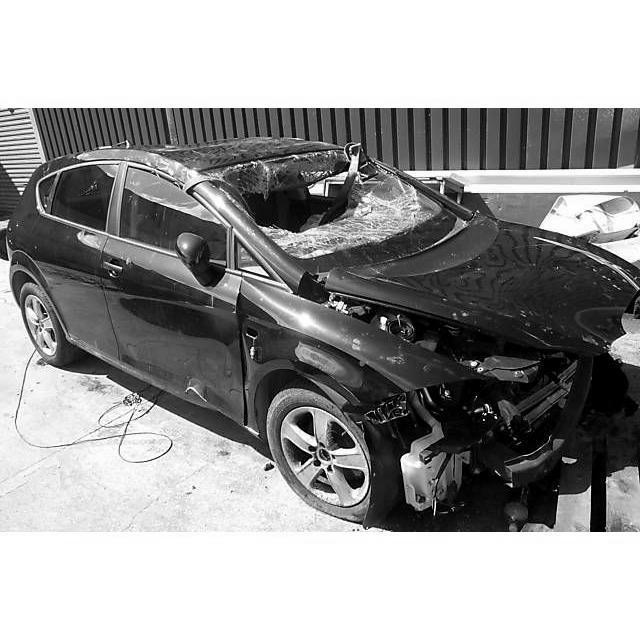Front-windscreen-damage: (211, 147, 455, 246)
Headlight-damage: (345, 306, 476, 388)
bonnet-dent: (358, 230, 632, 356)
doorouter-dent: (116, 295, 241, 421)
fender-dent: (399, 376, 491, 509)
front-bumper-dent: (448, 347, 631, 494)
roof-dent: (87, 136, 386, 167)
